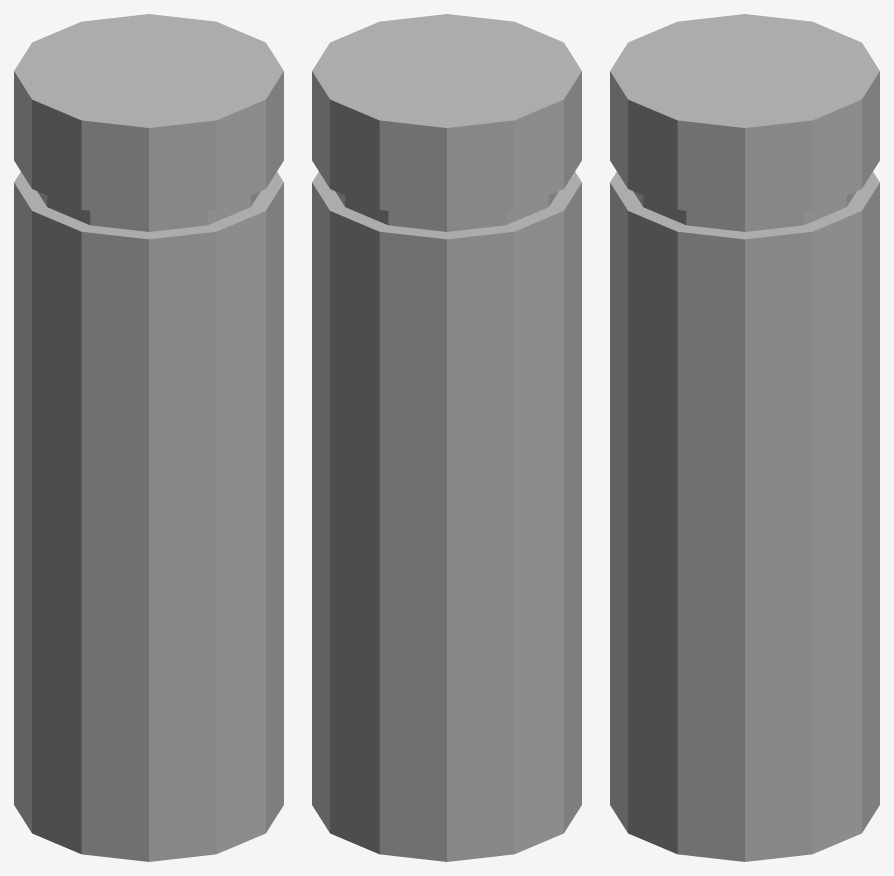
Rendered from bollard_01.fbx.
The picture shows the model from 3 angles, left to right: view 1: azimuth 30°, elevation 25°; view 2: azimuth 150°, elevation 25°; view 3: azimuth 270°, elevation 25°; orthographic projection.
Visible parts, largest first — view 1: bollard_01; view 2: bollard_01; view 3: bollard_01.
Part boxes in pixels (x1,y1,x2,y2): bollard_01: (14, 14, 283, 861); bollard_01: (312, 14, 581, 861); bollard_01: (610, 14, 879, 861).
Bounding box in the file's own units: 40 × 120 × 40.
Materials: 1 (1 with a texture image).
